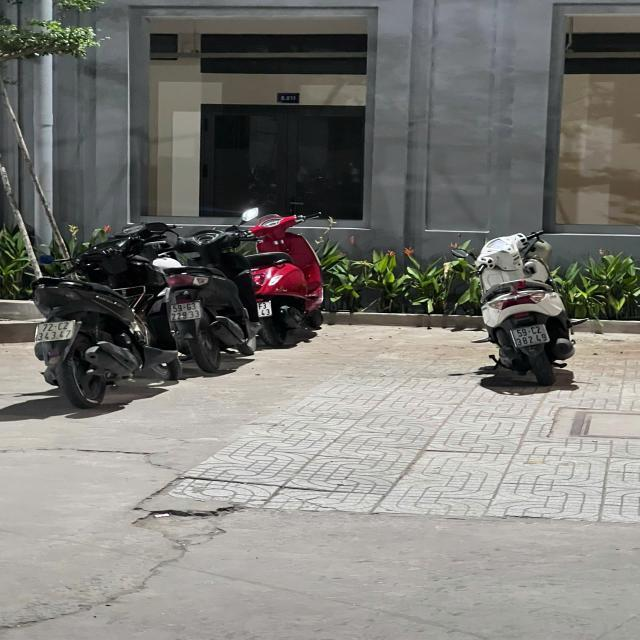motorcycle: (28, 226, 174, 410), (468, 225, 588, 398), (169, 221, 258, 375), (249, 215, 331, 345)
plate: (32, 317, 80, 347), (165, 294, 206, 325), (505, 323, 553, 348), (253, 294, 276, 322)
